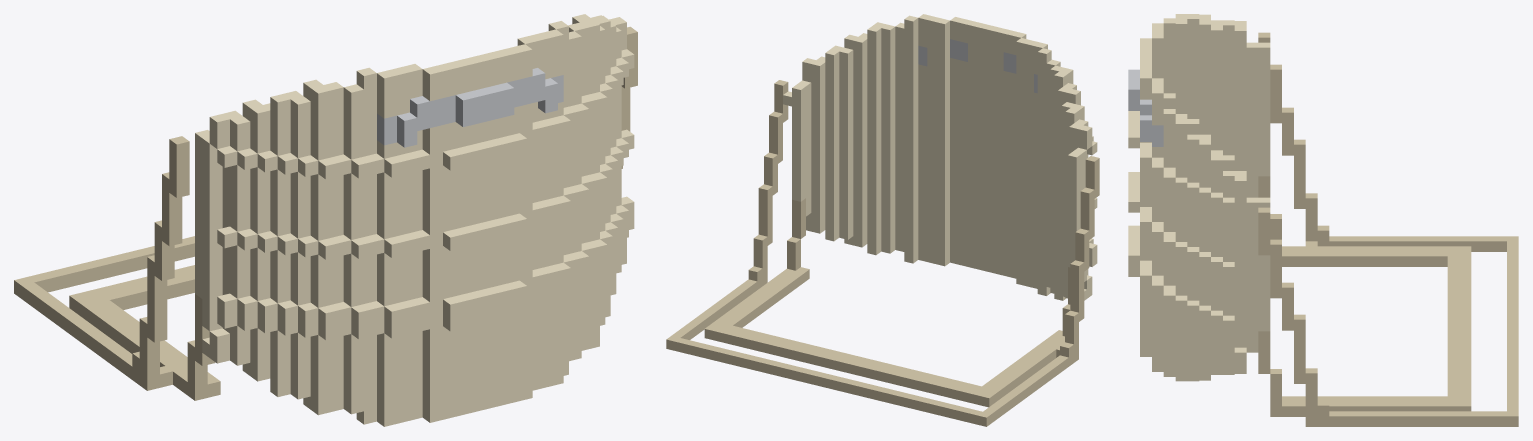
Rendered from mask_dust.glb.
3 views of the same model, side by side, from view 1: azimuth 30°, elevation 25°; view 2: azimuth 150°, elevation 25°; view 3: azimuth 270°, elevation 25° (orthographic). The views are drawn at different scales.
Visible parts, largest first — view 1: mask_dust:compound; view 2: mask_dust:compound; view 3: mask_dust:compound.
Boxes of the visible parts, bbox=[...] form: mask_dust:compound: bbox=[14, 14, 637, 426]; mask_dust:compound: bbox=[666, 14, 1099, 426]; mask_dust:compound: bbox=[1128, 14, 1518, 426].
Size of the model in its own units: 0.144 by 0.104 by 0.132.
